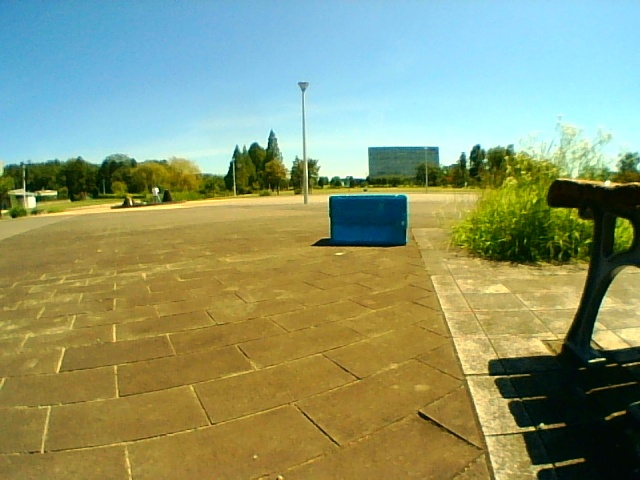blue_box: (330, 195, 407, 245)
